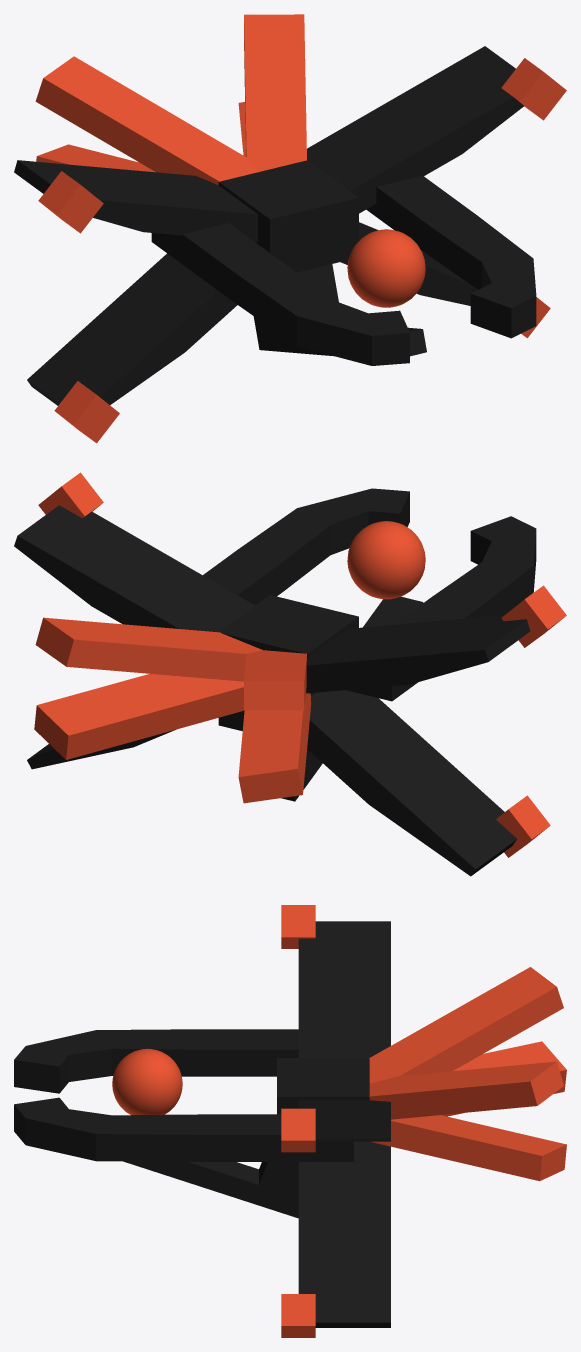
The model's file is Enemy_Bishop.fbx.
The picture shows the model from 3 angles, top to bottom: view 1: azimuth 30°, elevation 25°; view 2: azimuth 150°, elevation 25°; view 3: azimuth 270°, elevation 25°; orthographic projection. The views are drawn at different scales.
Visible parts, largest first — view 1: Canon, Wing, BackEmiss.001, Wing.001, Base, Charge, WingLightBot, WingLight, WingLight.001, BackEmiss; view 2: Wing, Wing.001, Canon, BackEmiss, BackEmiss.001, Base, Charge, WingLight, WingLightBot, WingLight.001; view 3: Canon, BackEmiss.001, Wing, Wing.001, Base, BackEmiss, Charge, WingLight.001, WingLightBot.001, WingLight.
Part boxes in pixels (left/top/right/bottom): Canon: left=151, top=175, right=536, bottom=365; Wing: left=14, top=46, right=523, bottom=242; BackEmiss.001: left=35, top=14, right=306, bottom=184; Wing.001: left=27, top=222, right=477, bottom=405; Base: left=218, top=160, right=426, bottom=356; Charge: left=347, top=229, right=425, bottom=307; WingLightBot: left=54, top=381, right=119, bottom=443; WingLight: left=38, top=171, right=103, bottom=233; WingLight.001: left=501, top=58, right=566, bottom=120; BackEmiss: left=36, top=102, right=245, bottom=172; Wing: left=14, top=505, right=530, bottom=693; Wing.001: left=27, top=690, right=516, bottom=876; Canon: left=203, top=488, right=536, bottom=701; BackEmiss: left=34, top=674, right=311, bottom=803; BackEmiss.001: left=35, top=617, right=306, bottom=710; Base: left=218, top=595, right=423, bottom=801; Charge: left=347, top=521, right=425, bottom=599; WingLight: left=501, top=585, right=566, bottom=647; WingLightBot: left=496, top=795, right=550, bottom=857; WingLight.001: left=38, top=472, right=103, bottom=518; Canon: left=14, top=1029, right=353, bottom=1161; BackEmiss.001: left=369, top=967, right=563, bottom=1119; Wing: left=298, top=921, right=390, bottom=1141; Wing.001: left=298, top=1141, right=390, bottom=1327; Base: left=123, top=1058, right=369, bottom=1218; BackEmiss: left=371, top=1041, right=566, bottom=1181; Charge: left=112, top=1048, right=182, bottom=1114; WingLight.001: left=281, top=1108, right=315, bottom=1152; WingLightBot.001: left=281, top=1294, right=315, bottom=1337; WingLight: left=281, top=905, right=315, bottom=948.
Size of the model in its own units: 1147 by 565 by 1197.
